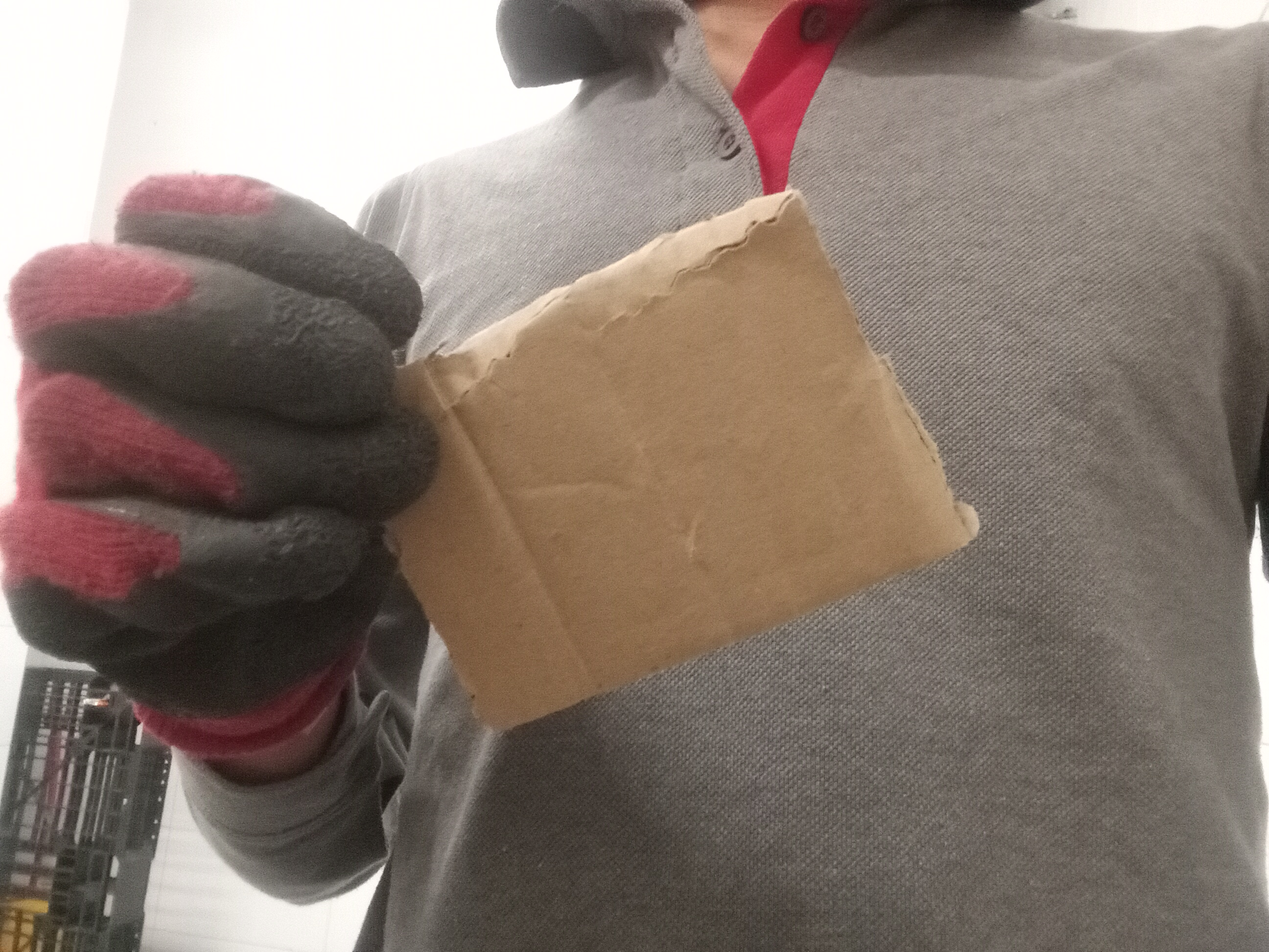Carton: (361, 187, 973, 734)
